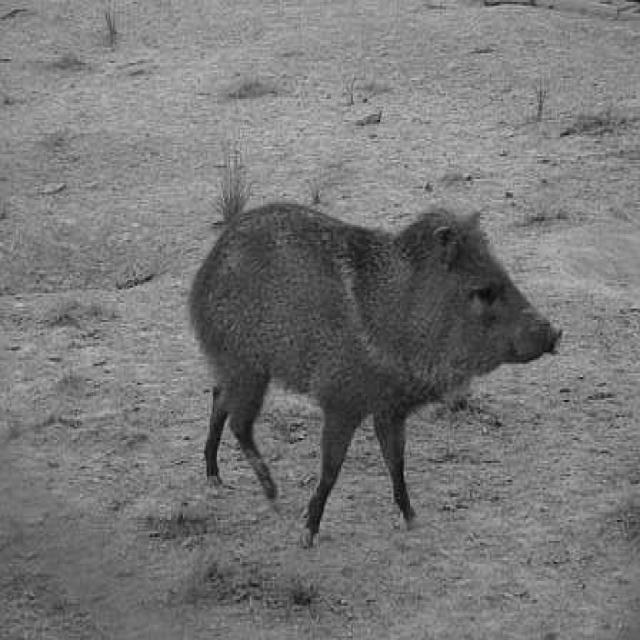boar: (189, 200, 557, 543)
